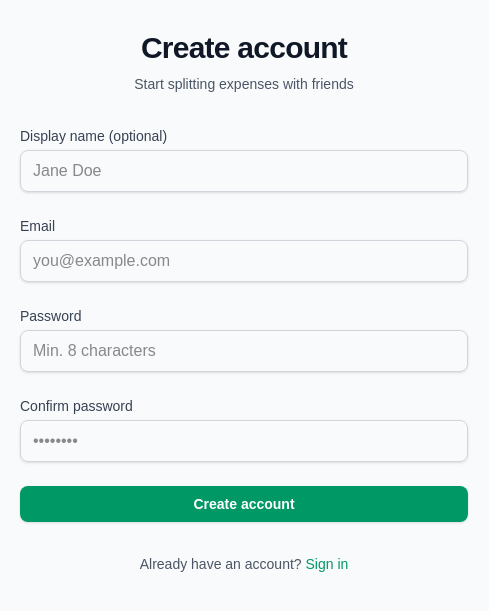
RegisterPage › should validate password match
Type "a@b.com" into the field labelled "Email" at (244, 261), box [20,240,468,282]
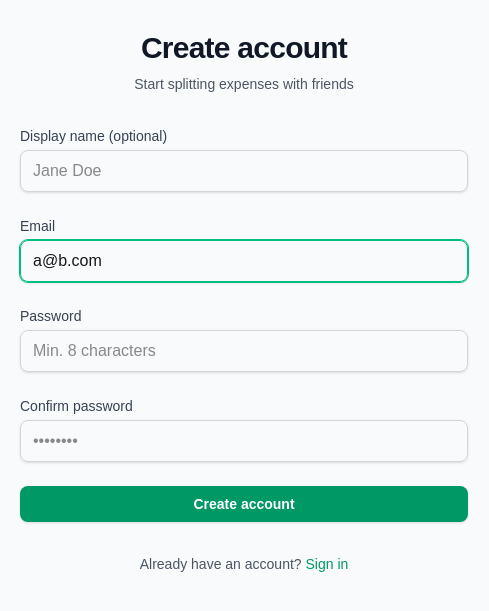
Type "password123" into the password field labelled "Password" at (244, 351), box [20,330,468,372]
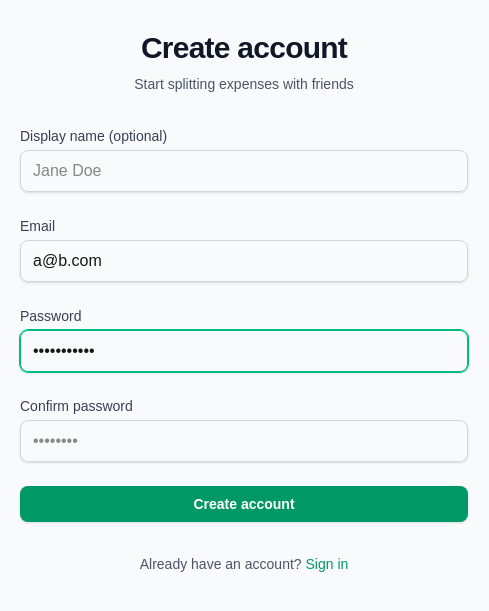
Type "differentpass" into the password field labelled "Confirm password" at (244, 441), box [20,420,468,462]
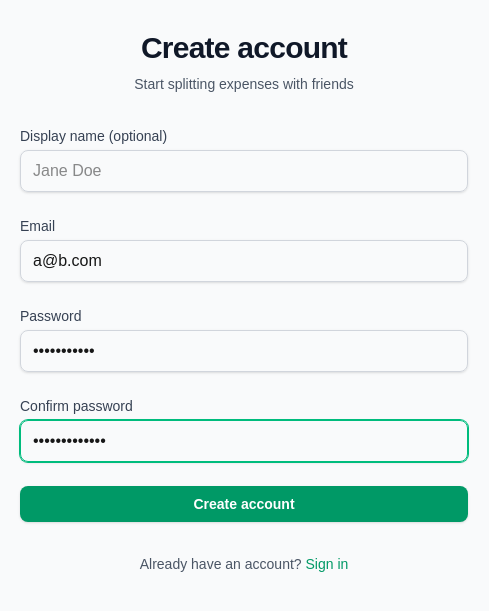
Click the button "Create account" at (244, 504), box [20,486,468,522]
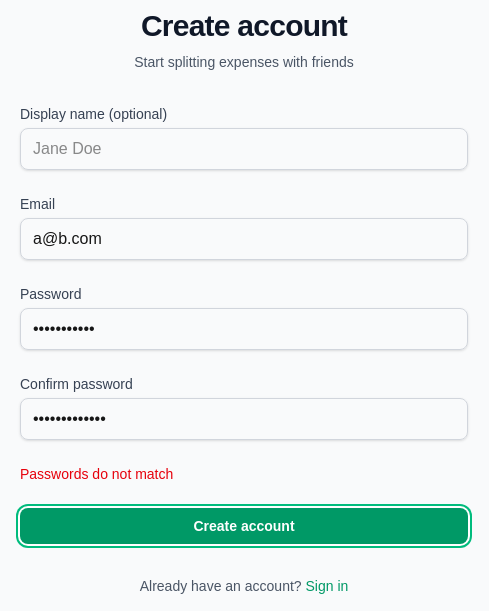
Result: the message reads "Passwords do not match" at [20,466,173,482]
